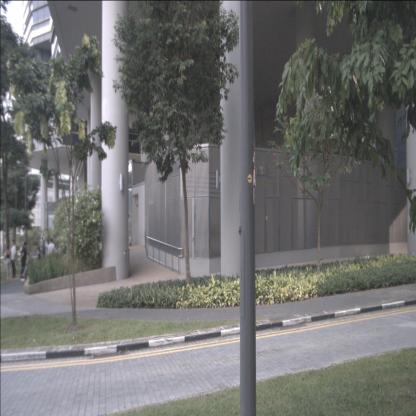human-pedestrian-adult: (20, 252, 32, 282), (20, 241, 28, 279), (48, 238, 56, 270), (34, 247, 42, 276), (4, 245, 11, 278), (126, 214, 133, 247), (10, 240, 16, 278), (45, 239, 51, 263), (41, 240, 46, 266), (40, 236, 44, 256)
